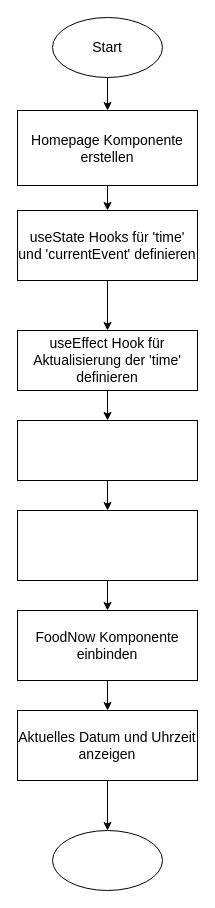
Image size: 215x908. Some labels were removed from this diagram. The centre of each missing label's shape, as x and y in pixels:
"Begrüßungsnachricht erstellen" goes at (107,450).
"Ende" goes at (107,860).
"SchedulerNow Komponente einbinden und 'currentEvent' aktualisieren" goes at (107,545).
